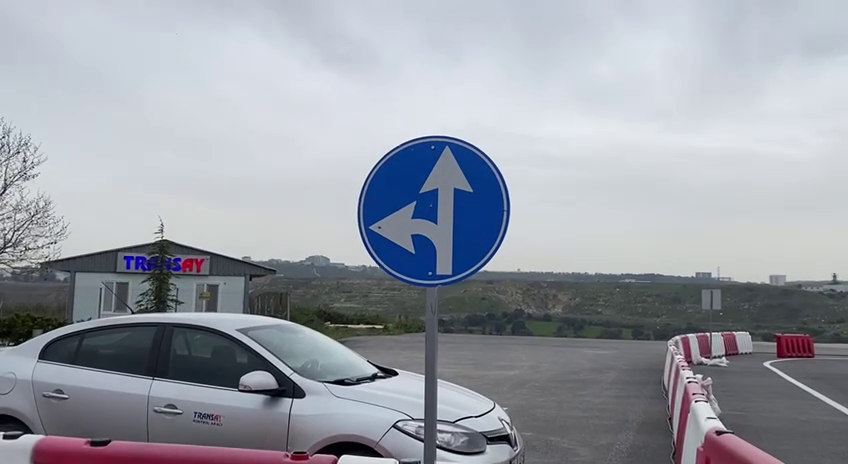forwardAndLeft: (351, 133, 513, 292)
